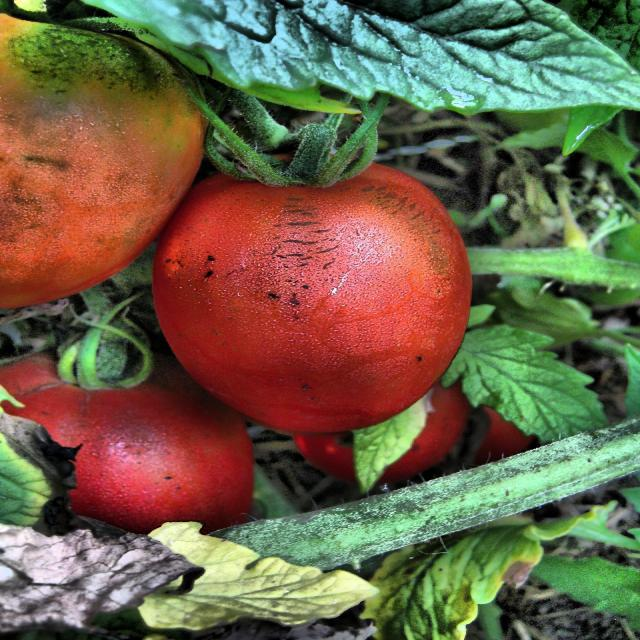tomato: (21, 1, 607, 640)
